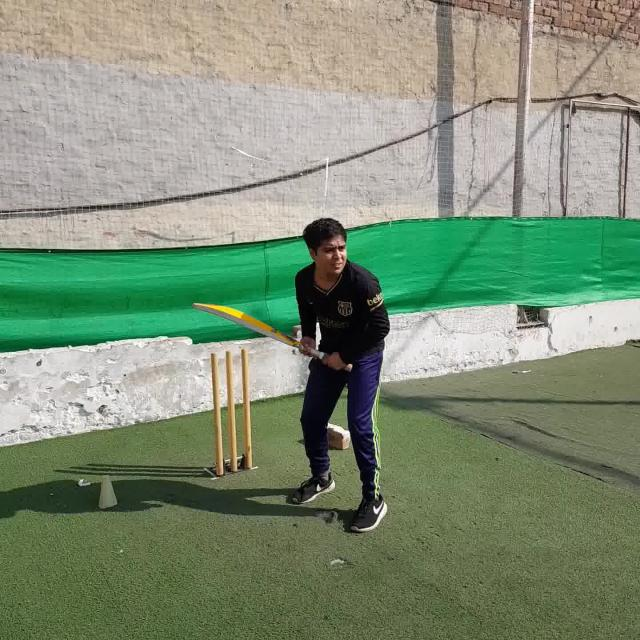bat: (191, 303, 353, 376)
